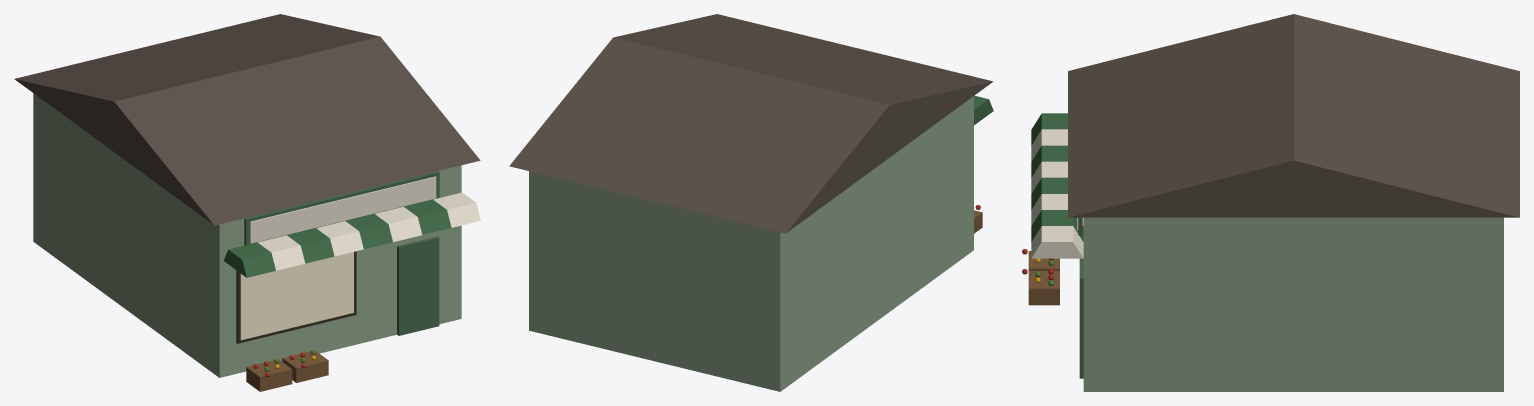
Rendered from negozio_esterno.obj.
3 views of the same model, side by side, from view 1: azimuth 30°, elevation 25°; view 2: azimuth 150°, elevation 25°; view 3: azimuth 270°, elevation 25° (orthographic). The views are drawn at different scales.
Parts seen in each view (by area): view 1: parte_01, parte_00, parte_05, parte_03, parte_04, parte_06, parte_07, parte_02; view 2: parte_00, parte_01; view 3: parte_01, parte_00, parte_05, parte_06, parte_07, parte_04.
Boxes of the visible parts, left/top/right/bottom form: parte_01: left=14, top=14, right=480, bottom=225; parte_00: left=33, top=93, right=461, bottom=377; parte_05: left=250, top=176, right=480, bottom=270; parte_03: left=240, top=252, right=353, bottom=340; parte_04: left=244, top=171, right=439, bottom=335; parte_06: left=223, top=199, right=451, bottom=277; parte_07: left=246, top=350, right=328, bottom=391; parte_02: left=236, top=251, right=356, bottom=343; parte_00: left=529, top=96, right=973, bottom=391; parte_01: left=509, top=14, right=993, bottom=233; parte_01: left=1068, top=14, right=1519, bottom=217; parte_00: left=1083, top=217, right=1503, bottom=391; parte_05: left=1031, top=129, right=1083, bottom=258; parte_06: left=1031, top=113, right=1083, bottom=241; parte_07: left=1028, top=251, right=1059, bottom=305; parte_04: left=1078, top=217, right=1083, bottom=378.
Bounding box in the file's own units: 6.6 × 5 × 9.47.
